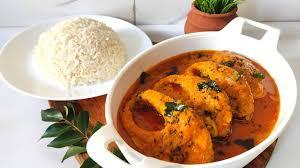Fish Curry: (129, 33, 300, 159)
